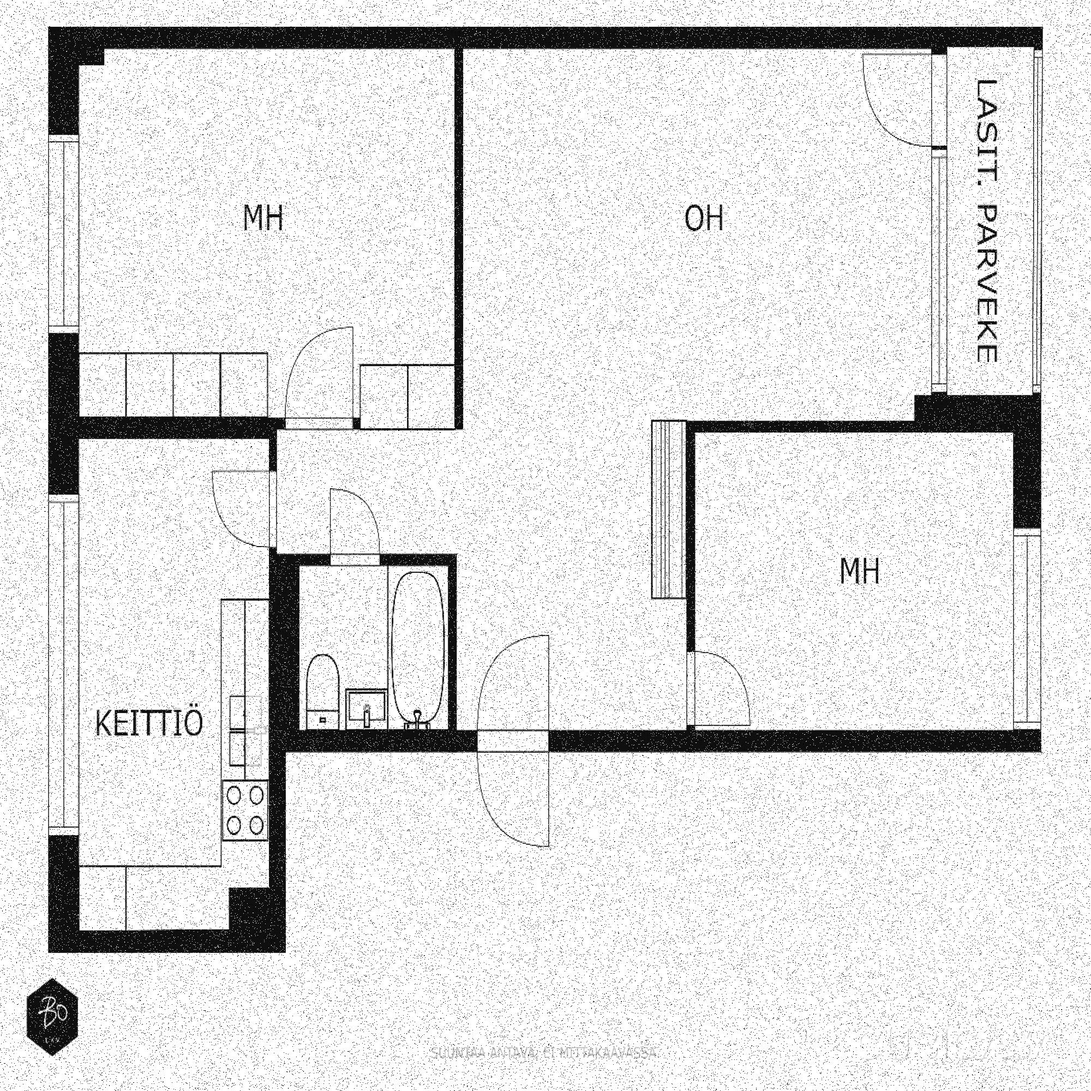wall: (47, 26, 79, 953), (47, 26, 950, 47), (269, 730, 1042, 754), (1016, 395, 1042, 754), (934, 26, 950, 431), (47, 929, 286, 953), (79, 417, 276, 437), (269, 730, 286, 953), (935, 395, 1042, 430), (455, 47, 464, 430), (686, 417, 934, 430), (1034, 26, 1042, 395), (686, 417, 695, 730), (269, 417, 276, 730), (277, 554, 458, 566), (950, 26, 1042, 47), (449, 553, 458, 730), (269, 417, 359, 430)
